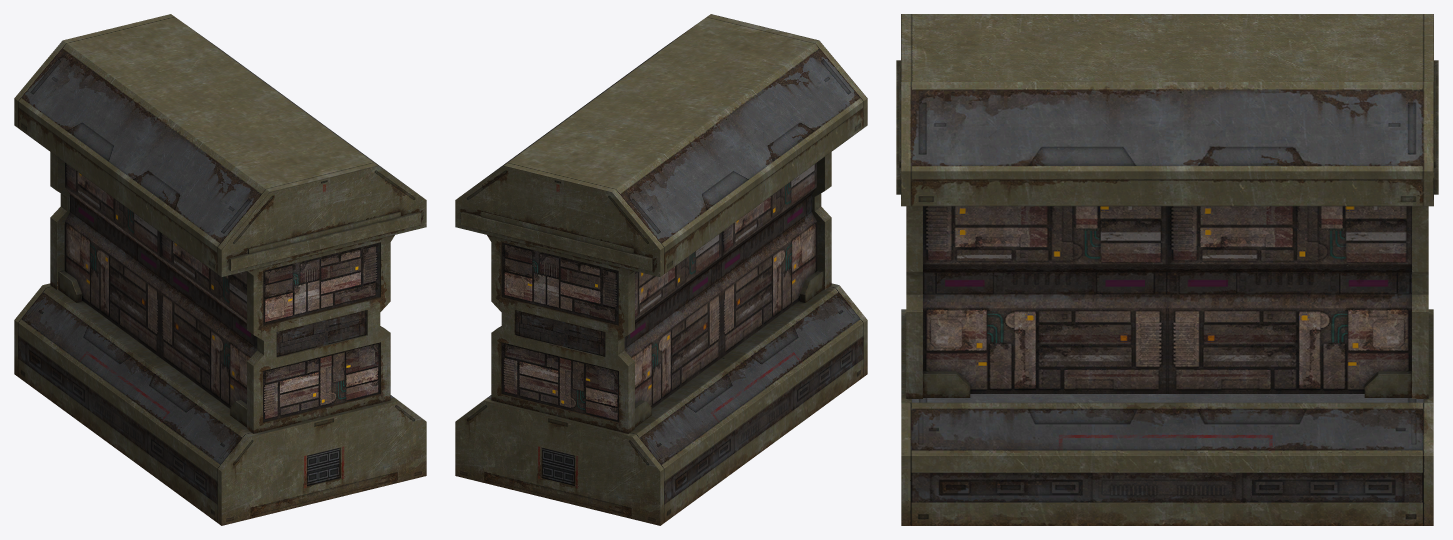
Rendered from server_data_large_02.DAE.
The picture shows the model from 3 angles, left to right: view 1: azimuth 30°, elevation 25°; view 2: azimuth 150°, elevation 25°; view 3: azimuth 270°, elevation 25°; orthographic projection. The views are drawn at different scales.
Visible parts, largest first — view 1: polySurface1; view 2: polySurface1; view 3: polySurface1.
Boxes of the visible parts, <box> form: polySurface1: <box>14,14,426,525</box>; polySurface1: <box>455,14,867,525</box>; polySurface1: <box>896,14,1438,525</box>.
Size of the model in its own units: 2 by 3 by 3.57.
